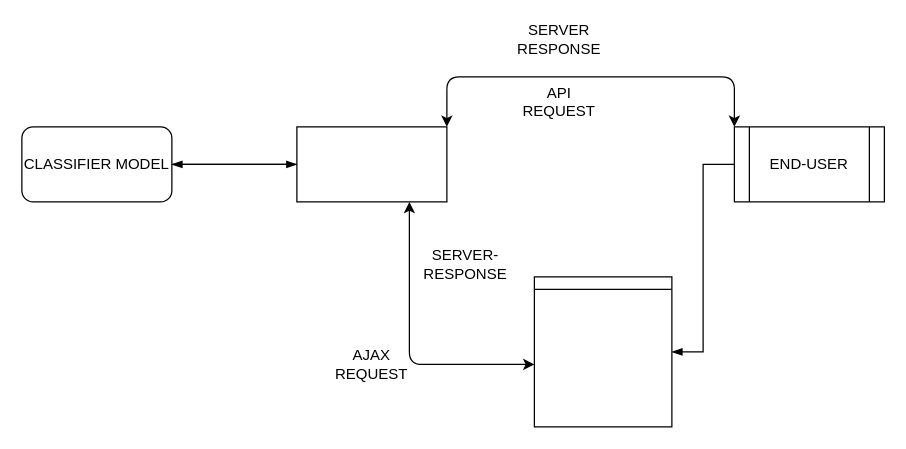
This 906x449 diagram has some shape labels left out. Each missing label, with the box of its shape:
FRONT-END: (533, 276, 672, 427)
SERVER: (296, 126, 447, 202)
